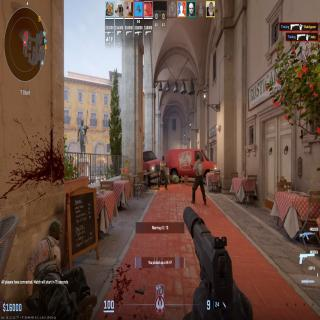T-Body: (192, 153, 207, 206), (158, 154, 168, 191)
T-Head: (196, 152, 200, 162), (162, 156, 165, 163)
